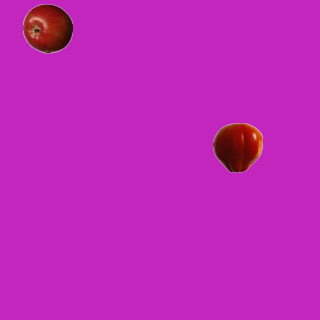Apple Braeburn: (22, 3, 72, 53)
Tomato 1: (212, 122, 262, 172)
